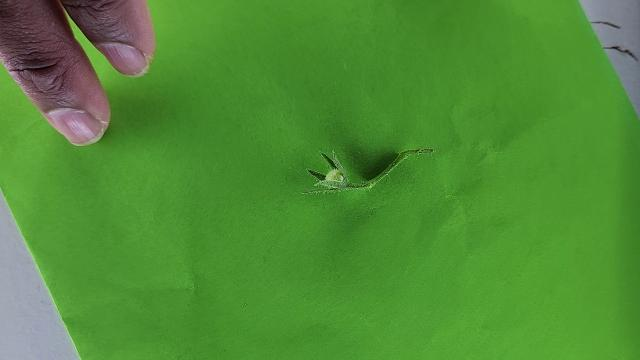Fruit Bud: (305, 151, 351, 195)
